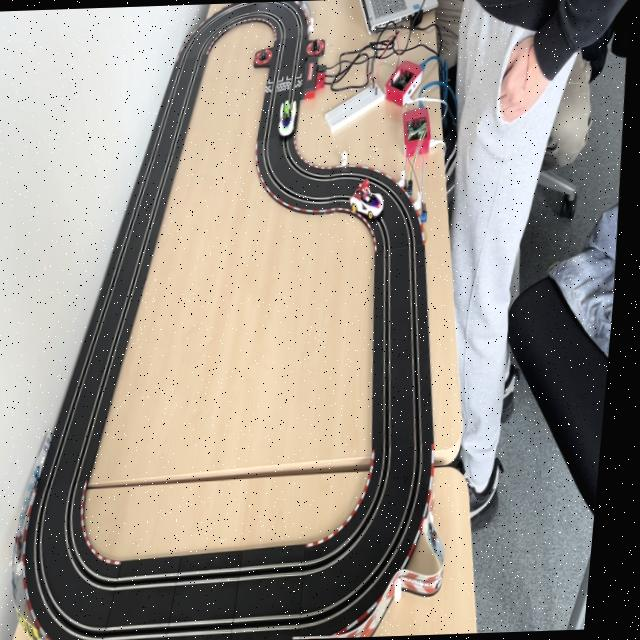mario: (352, 178, 392, 218)
yoshi: (278, 98, 301, 138)
